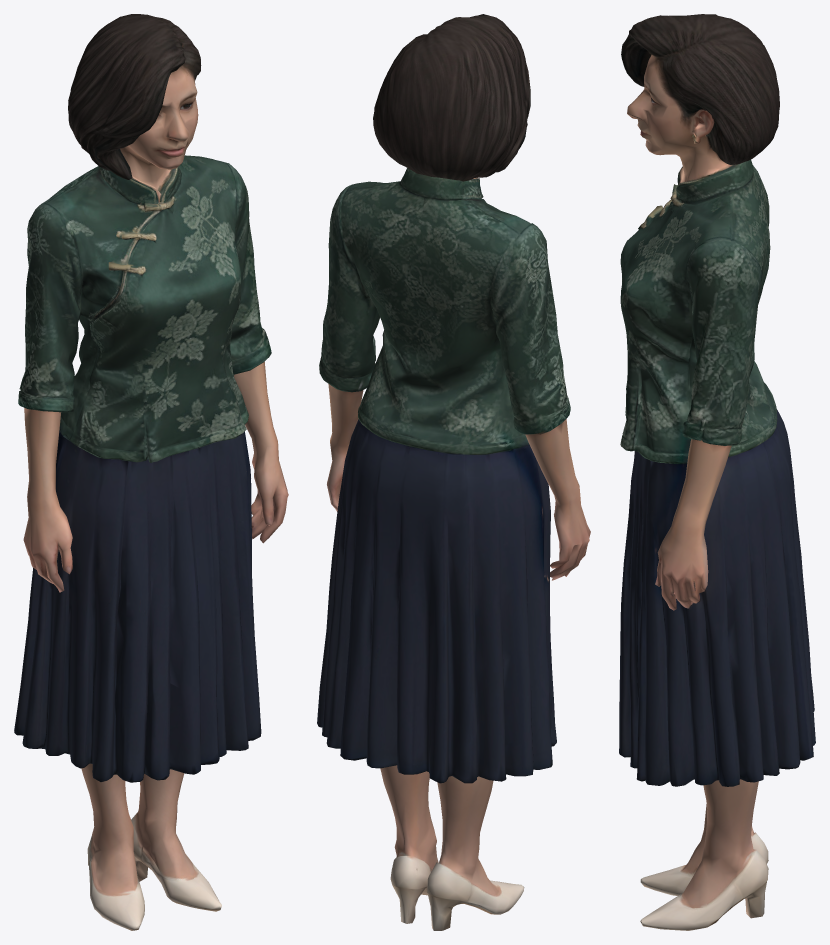
The model's file is southCloth.glb.
3 renders of one model, left to right at view 1: azimuth 30°, elevation 25°; view 2: azimuth 150°, elevation 25°; view 3: azimuth 270°, elevation 25°, orthographic.
Parts seen in each view (by area): view 1: tripo_node_97d77777-db48-428f-9a65-ce1ad99a232b, southCloth articulation; view 2: tripo_node_97d77777-db48-428f-9a65-ce1ad99a232b; view 3: tripo_node_97d77777-db48-428f-9a65-ce1ad99a232b, southCloth articulation.
Part boxes in pixels (box(x1,y1,x2,y2)): tripo_node_97d77777-db48-428f-9a65-ce1ad99a232b: box(14, 14, 288, 930); southCloth articulation: box(106, 51, 201, 193); tripo_node_97d77777-db48-428f-9a65-ce1ad99a232b: box(317, 14, 590, 930); tripo_node_97d77777-db48-428f-9a65-ce1ad99a232b: box(619, 14, 815, 930); southCloth articulation: box(621, 43, 697, 197).
Bounding box in the file's own units: 0.296 × 0.9795 × 0.1968.
2 materials, 1 textured.
